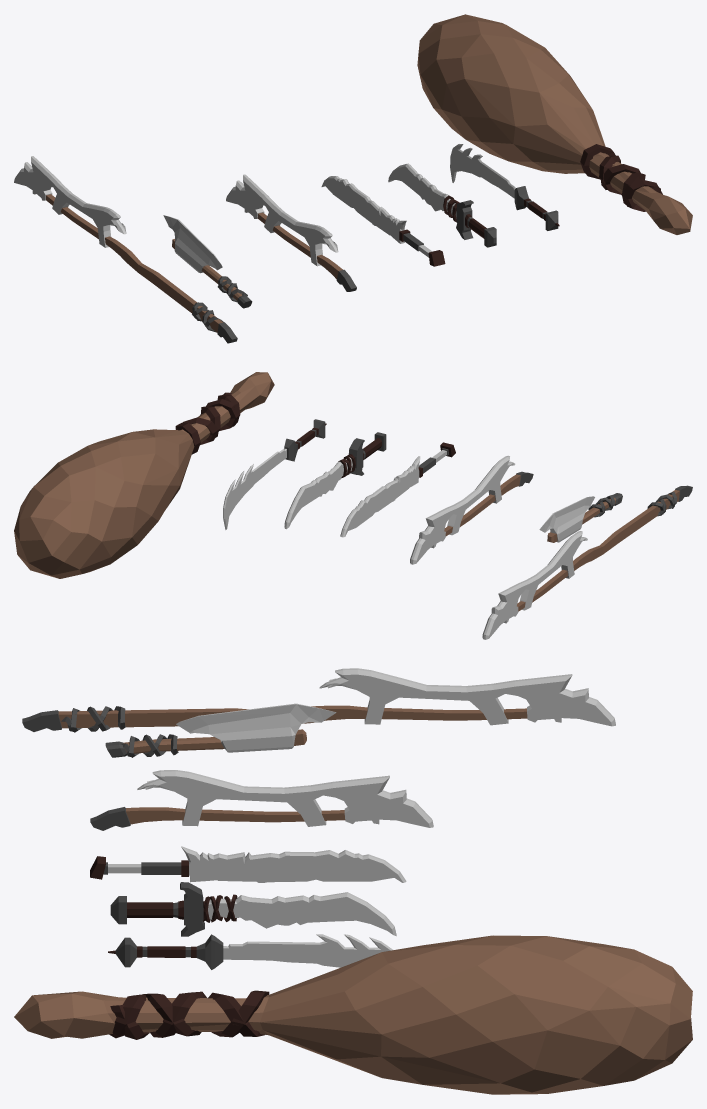
The model's file is Orc Weapons.fbx.
3 renders of one model, top to bottom at view 1: azimuth 30°, elevation 25°; view 2: azimuth 150°, elevation 25°; view 3: azimuth 270°, elevation 25°, orthographic. The views are drawn at different scales.
Parts seen in each view (by area): view 1: Giant Club, Pike 1, Axe 2, Sword 2, Sword 1, Axe 1, Sword 3; view 2: Giant Club, Pike 1, Axe 2, Sword 2, Sword 1, Sword 3, Axe 1; view 3: Giant Club, Pike 1, Axe 2, Sword 1, Sword 2, Axe 1, Sword 3.
Boxes of the visible parts, bbox=[...] form: Giant Club: bbox=[417, 14, 692, 234]; Pike 1: bbox=[14, 156, 237, 343]; Axe 2: bbox=[226, 174, 356, 291]; Sword 2: bbox=[388, 163, 496, 247]; Sword 1: bbox=[321, 176, 445, 266]; Axe 1: bbox=[163, 215, 252, 308]; Sword 3: bbox=[450, 144, 559, 230]; Giant Club: bbox=[14, 372, 274, 578]; Pike 1: bbox=[482, 485, 692, 639]; Axe 2: bbox=[410, 455, 533, 564]; Sword 2: bbox=[284, 432, 386, 529]; Sword 1: bbox=[340, 442, 455, 537]; Sword 3: bbox=[223, 419, 326, 529]; Axe 1: bbox=[539, 493, 622, 542]; Giant Club: bbox=[14, 935, 692, 1094]; Pike 1: bbox=[22, 668, 615, 732]; Axe 2: bbox=[90, 770, 433, 830]; Sword 1: bbox=[90, 846, 406, 882]; Sword 2: bbox=[110, 882, 396, 936]; Axe 1: bbox=[105, 703, 336, 757]; Sword 3: bbox=[108, 934, 393, 969].
Bounding box in the file's own units: 247 × 50.62 × 210.
